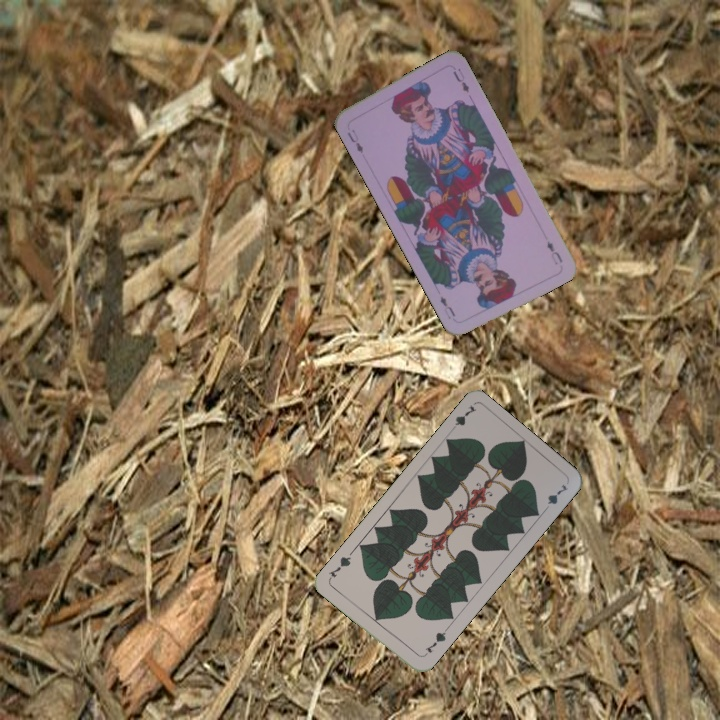EU: (343, 125, 366, 156), (543, 237, 565, 267)
G7: (445, 401, 479, 436), (419, 625, 450, 659)
